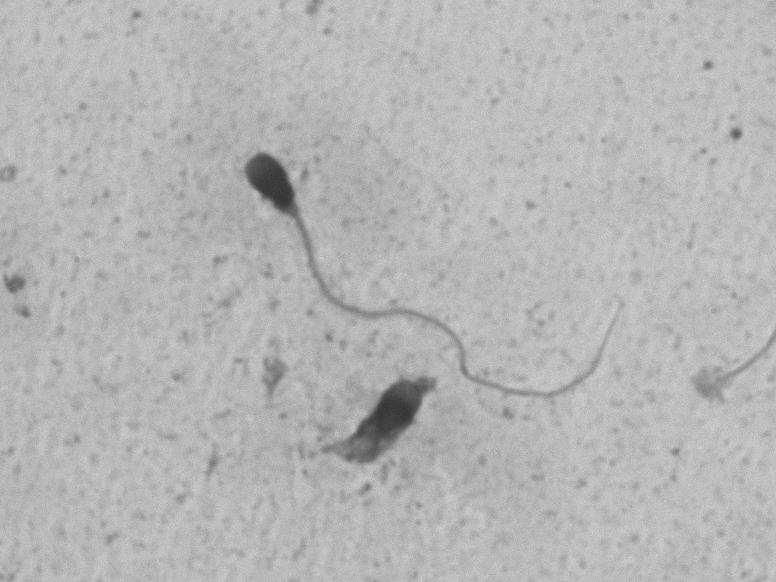Abnormal: (207, 126, 655, 410)
